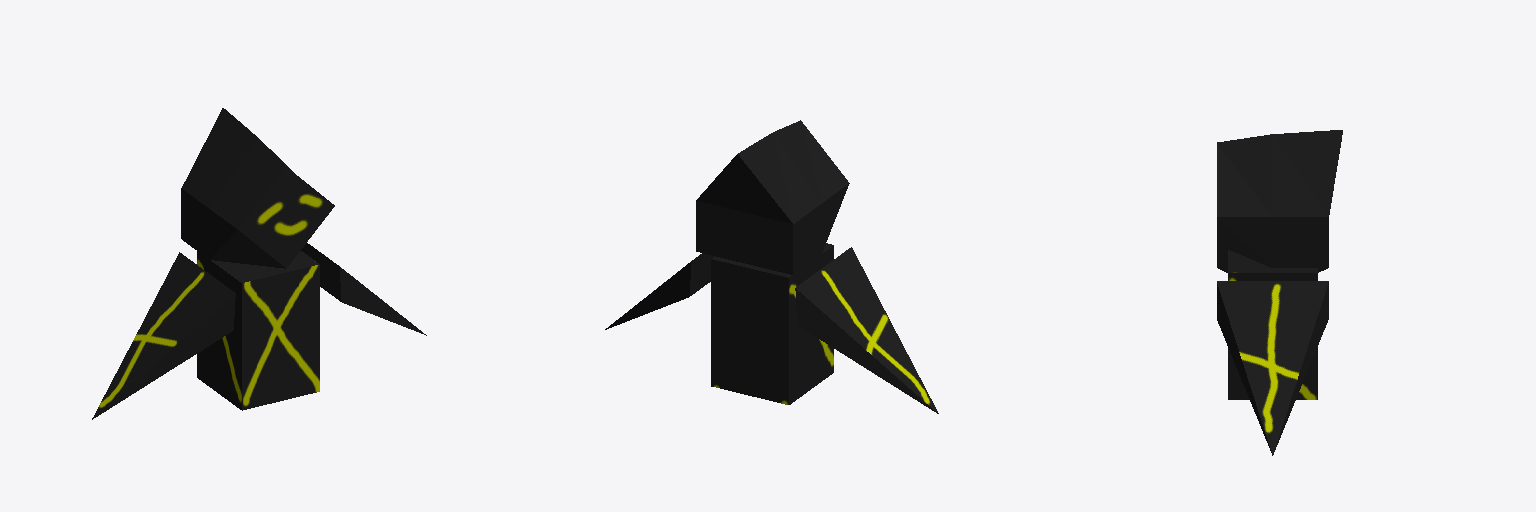
3 views of the same model, side by side, from view 1: azimuth 30°, elevation 25°; view 2: azimuth 150°, elevation 25°; view 3: azimuth 270°, elevation 25° (orthographic).
Parts seen in each view (by area): view 1: 立方体.001; view 2: 立方体.001; view 3: 立方体.001.
Part boxes in pixels (x1,y1,x2,y2): 立方体.001: (92, 108, 426, 419); 立方体.001: (605, 120, 938, 413); 立方体.001: (1217, 130, 1342, 455).
Bounding box in the file's own units: 3.26 × 2.33 × 1.07.
4 materials, 1 textured.